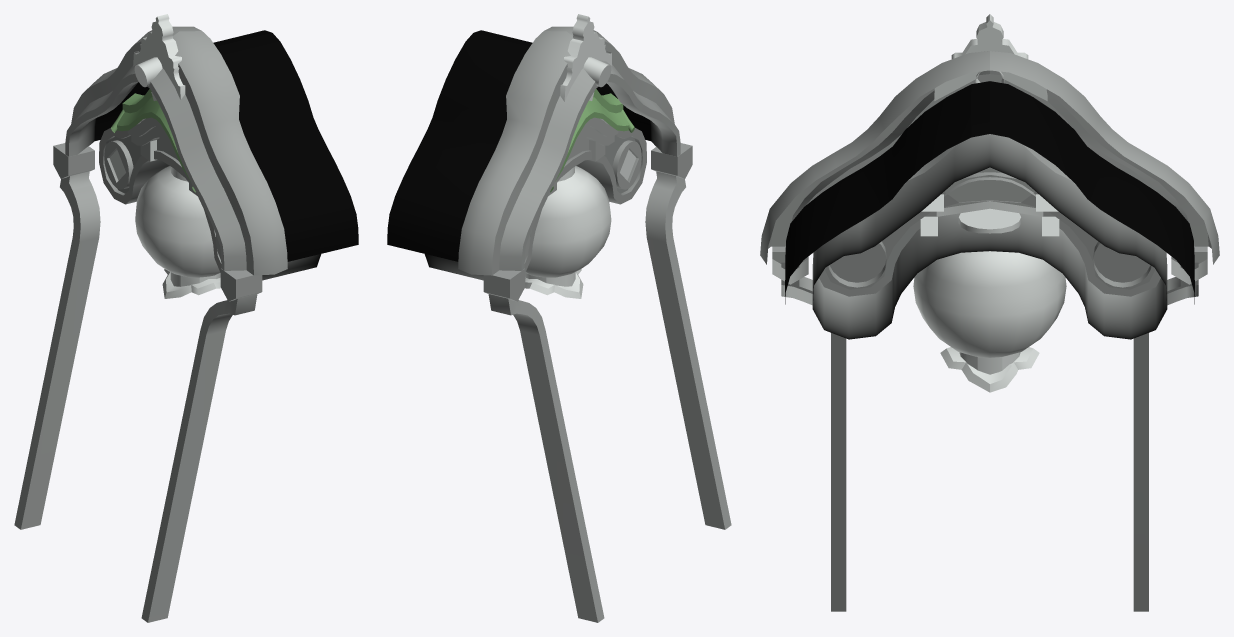
3 views of the same model, side by side, from view 1: azimuth 30°, elevation 25°; view 2: azimuth 150°, elevation 25°; view 3: azimuth 270°, elevation 25° (orthographic). The views are drawn at different scales.
Visible parts, largest first — view 1: G:\FFXIV-MapTools\exports\e3t1\bg\ex2\02_est_e3\twn\e3t1\bgp (×10); view 2: G:\FFXIV-MapTools\exports\e3t1\bg\ex2\02_est_e3\twn\e3t1\bgp (×10); view 3: G:\FFXIV-MapTools\exports\e3t1\bg\ex2\02_est_e3\twn\e3t1\bgp (×9).
Part boxes in pixels (x1,y1,x2,y2): G:\FFXIV-MapTools\exports\e3t1\bg\ex2\02_est_e3\twn\e3t1\bgp (×10): (14,14,358,622); G:\FFXIV-MapTools\exports\e3t1\bg\ex2\02_est_e3\twn\e3t1\bgp (×10): (387,14,731,622); G:\FFXIV-MapTools\exports\e3t1\bg\ex2\02_est_e3\twn\e3t1\bgp (×9): (760,14,1219,611).
Bounding box in the file's own units: 14.51 × 39.03 × 25.34.
